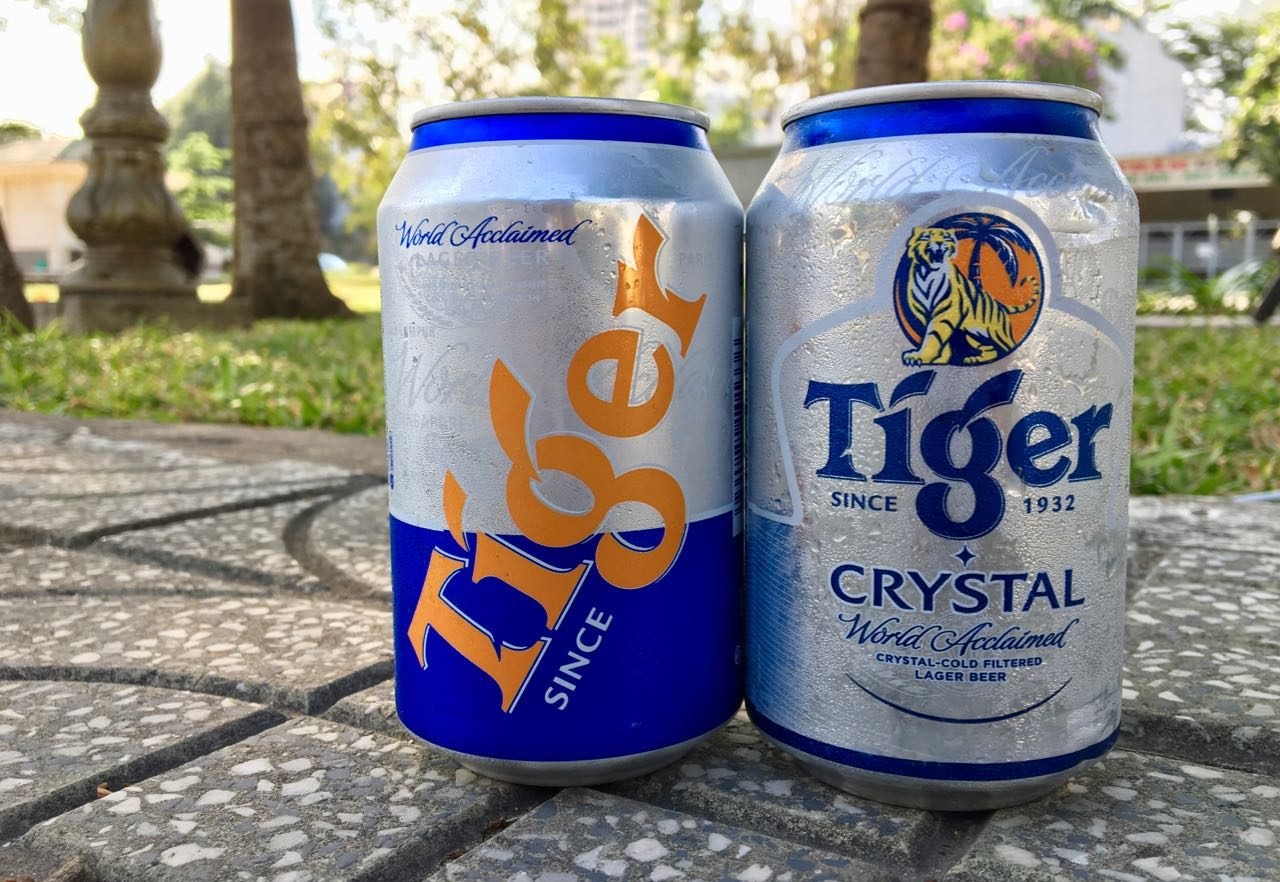tiger: (404, 209, 705, 710), (798, 365, 1117, 538)
